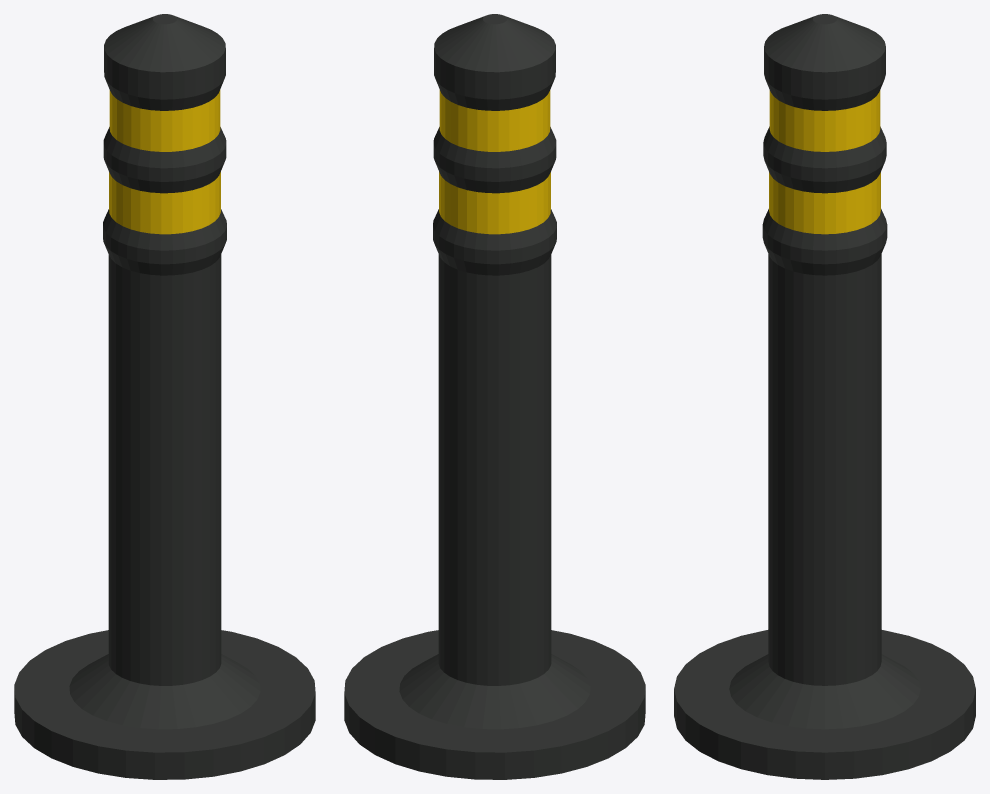
Rendered from TiangTrotoar.fbx.
3 renders of one model, left to right at view 1: azimuth 30°, elevation 25°; view 2: azimuth 150°, elevation 25°; view 3: azimuth 270°, elevation 25°, orthographic.
Visible parts, largest first — view 1: Cylinder; view 2: Cylinder; view 3: Cylinder.
Part boxes in pixels (x1,y1,x2,y2): Cylinder: (14, 14, 315, 779); Cylinder: (344, 14, 645, 779); Cylinder: (674, 14, 975, 779).
Bounding box in the file's own units: 200 × 510 × 200.
